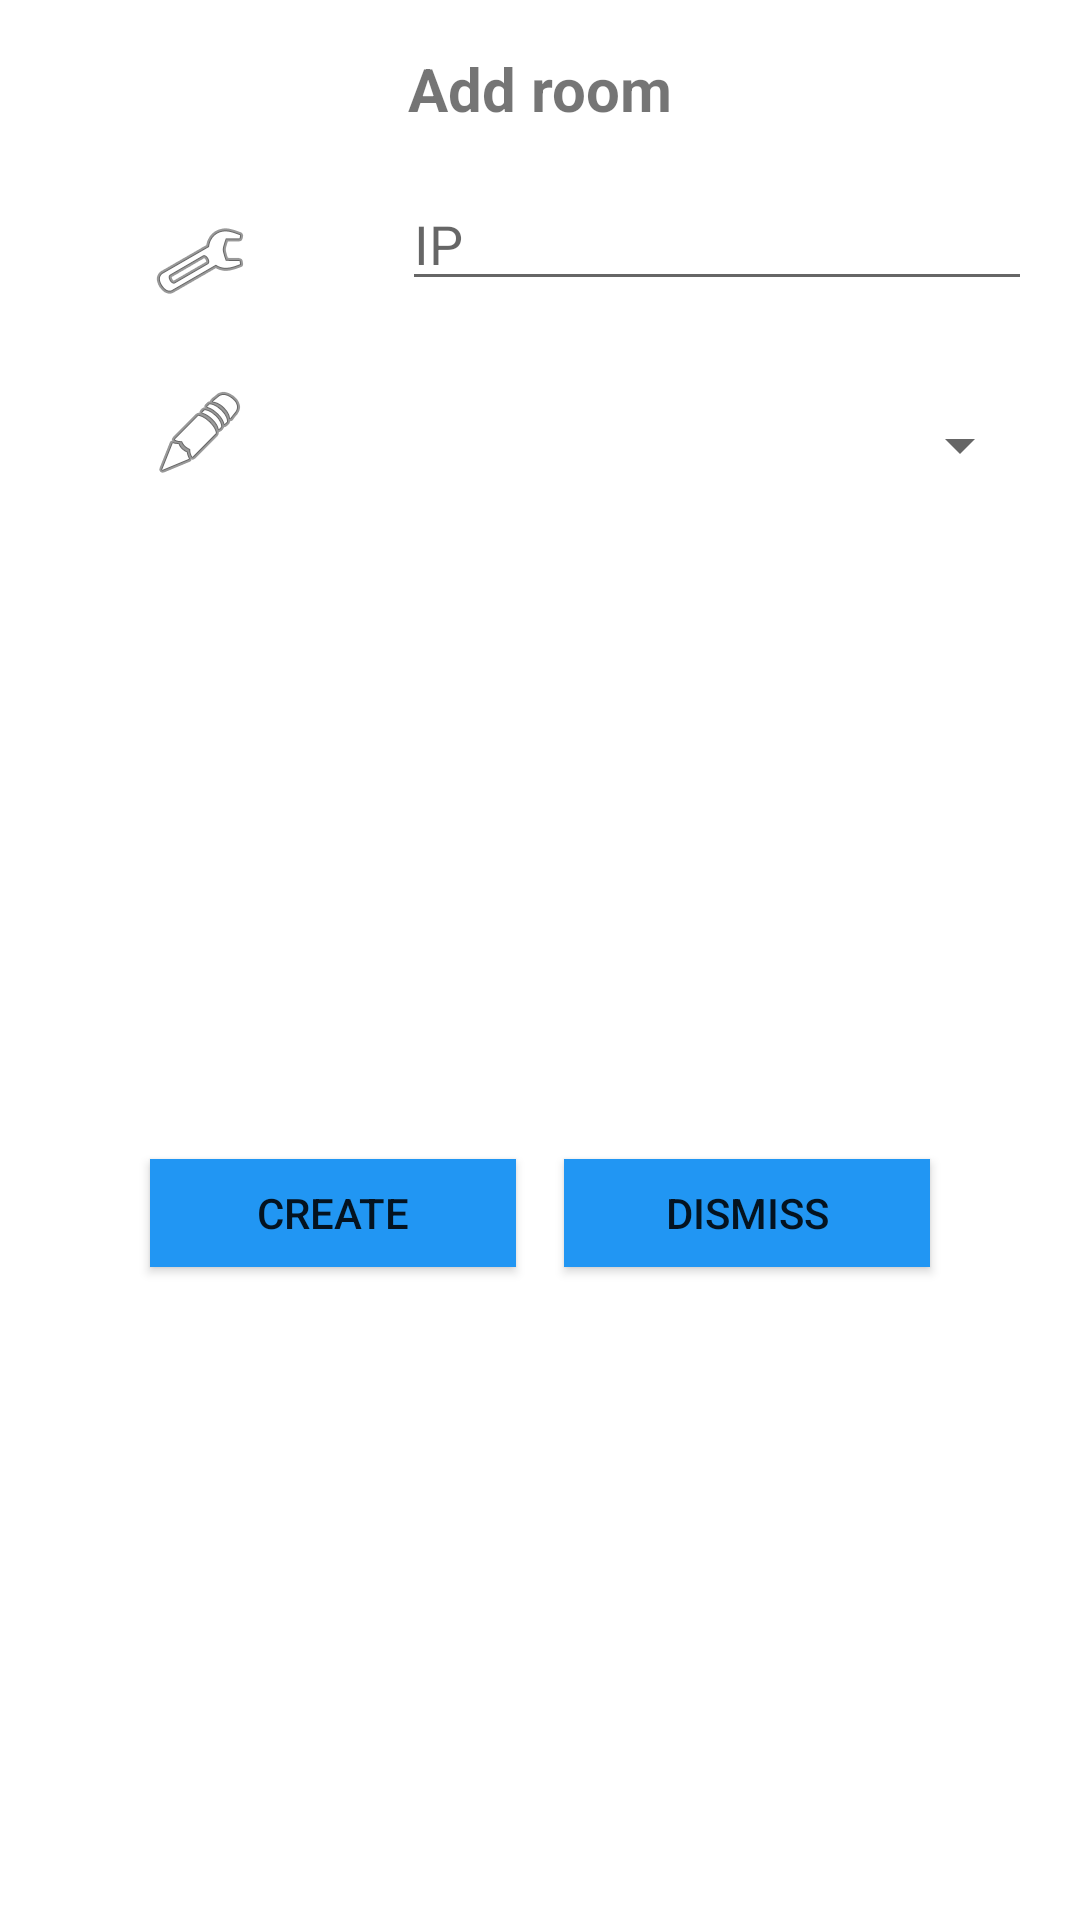

Screen size 1080*1920. Icon name, then its center in pixels as (x=x, y=y):
edit: (x=199, y=432)
manage: (x=200, y=261)
